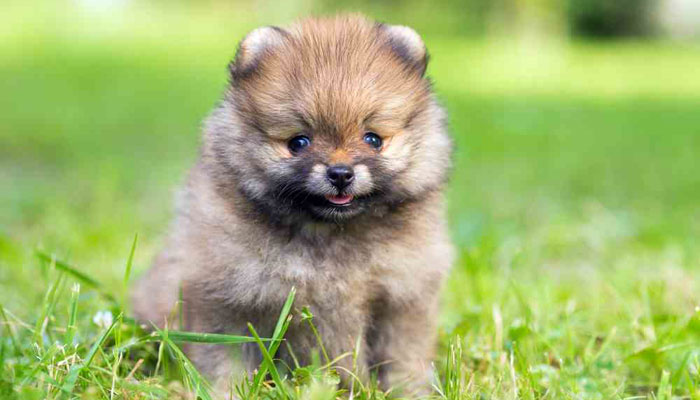pomeranian: (129, 13, 467, 398)
